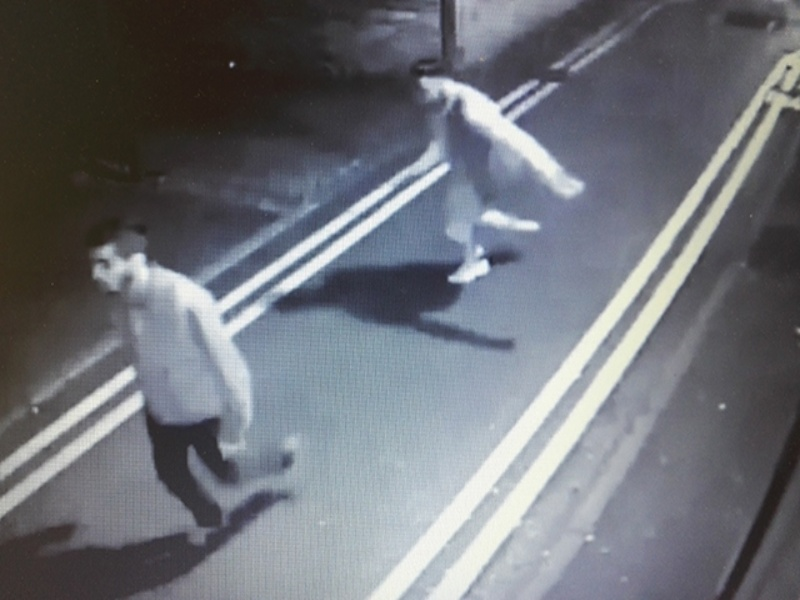person: (79, 209, 312, 563), (404, 47, 592, 290)
